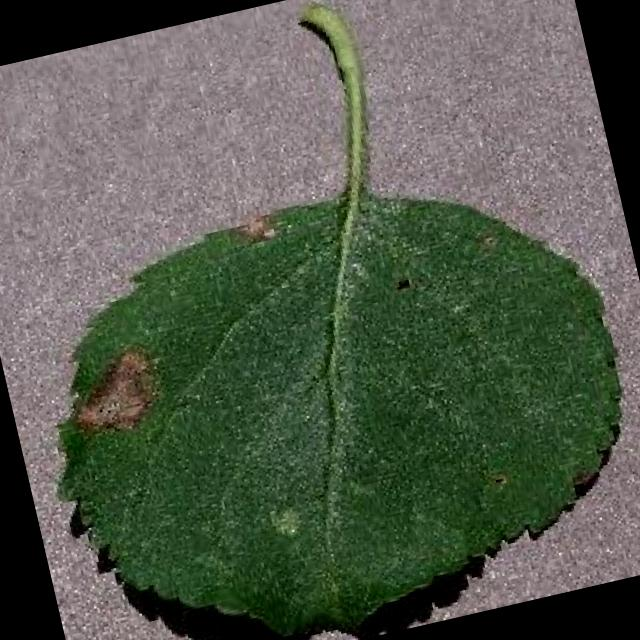leaf_spot: (60, 10, 619, 636)
